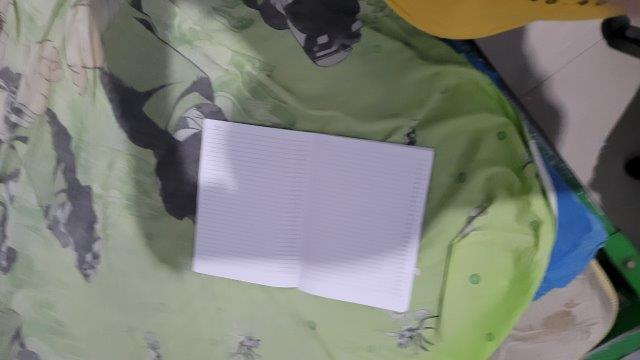kertas: (190, 119, 433, 313)
